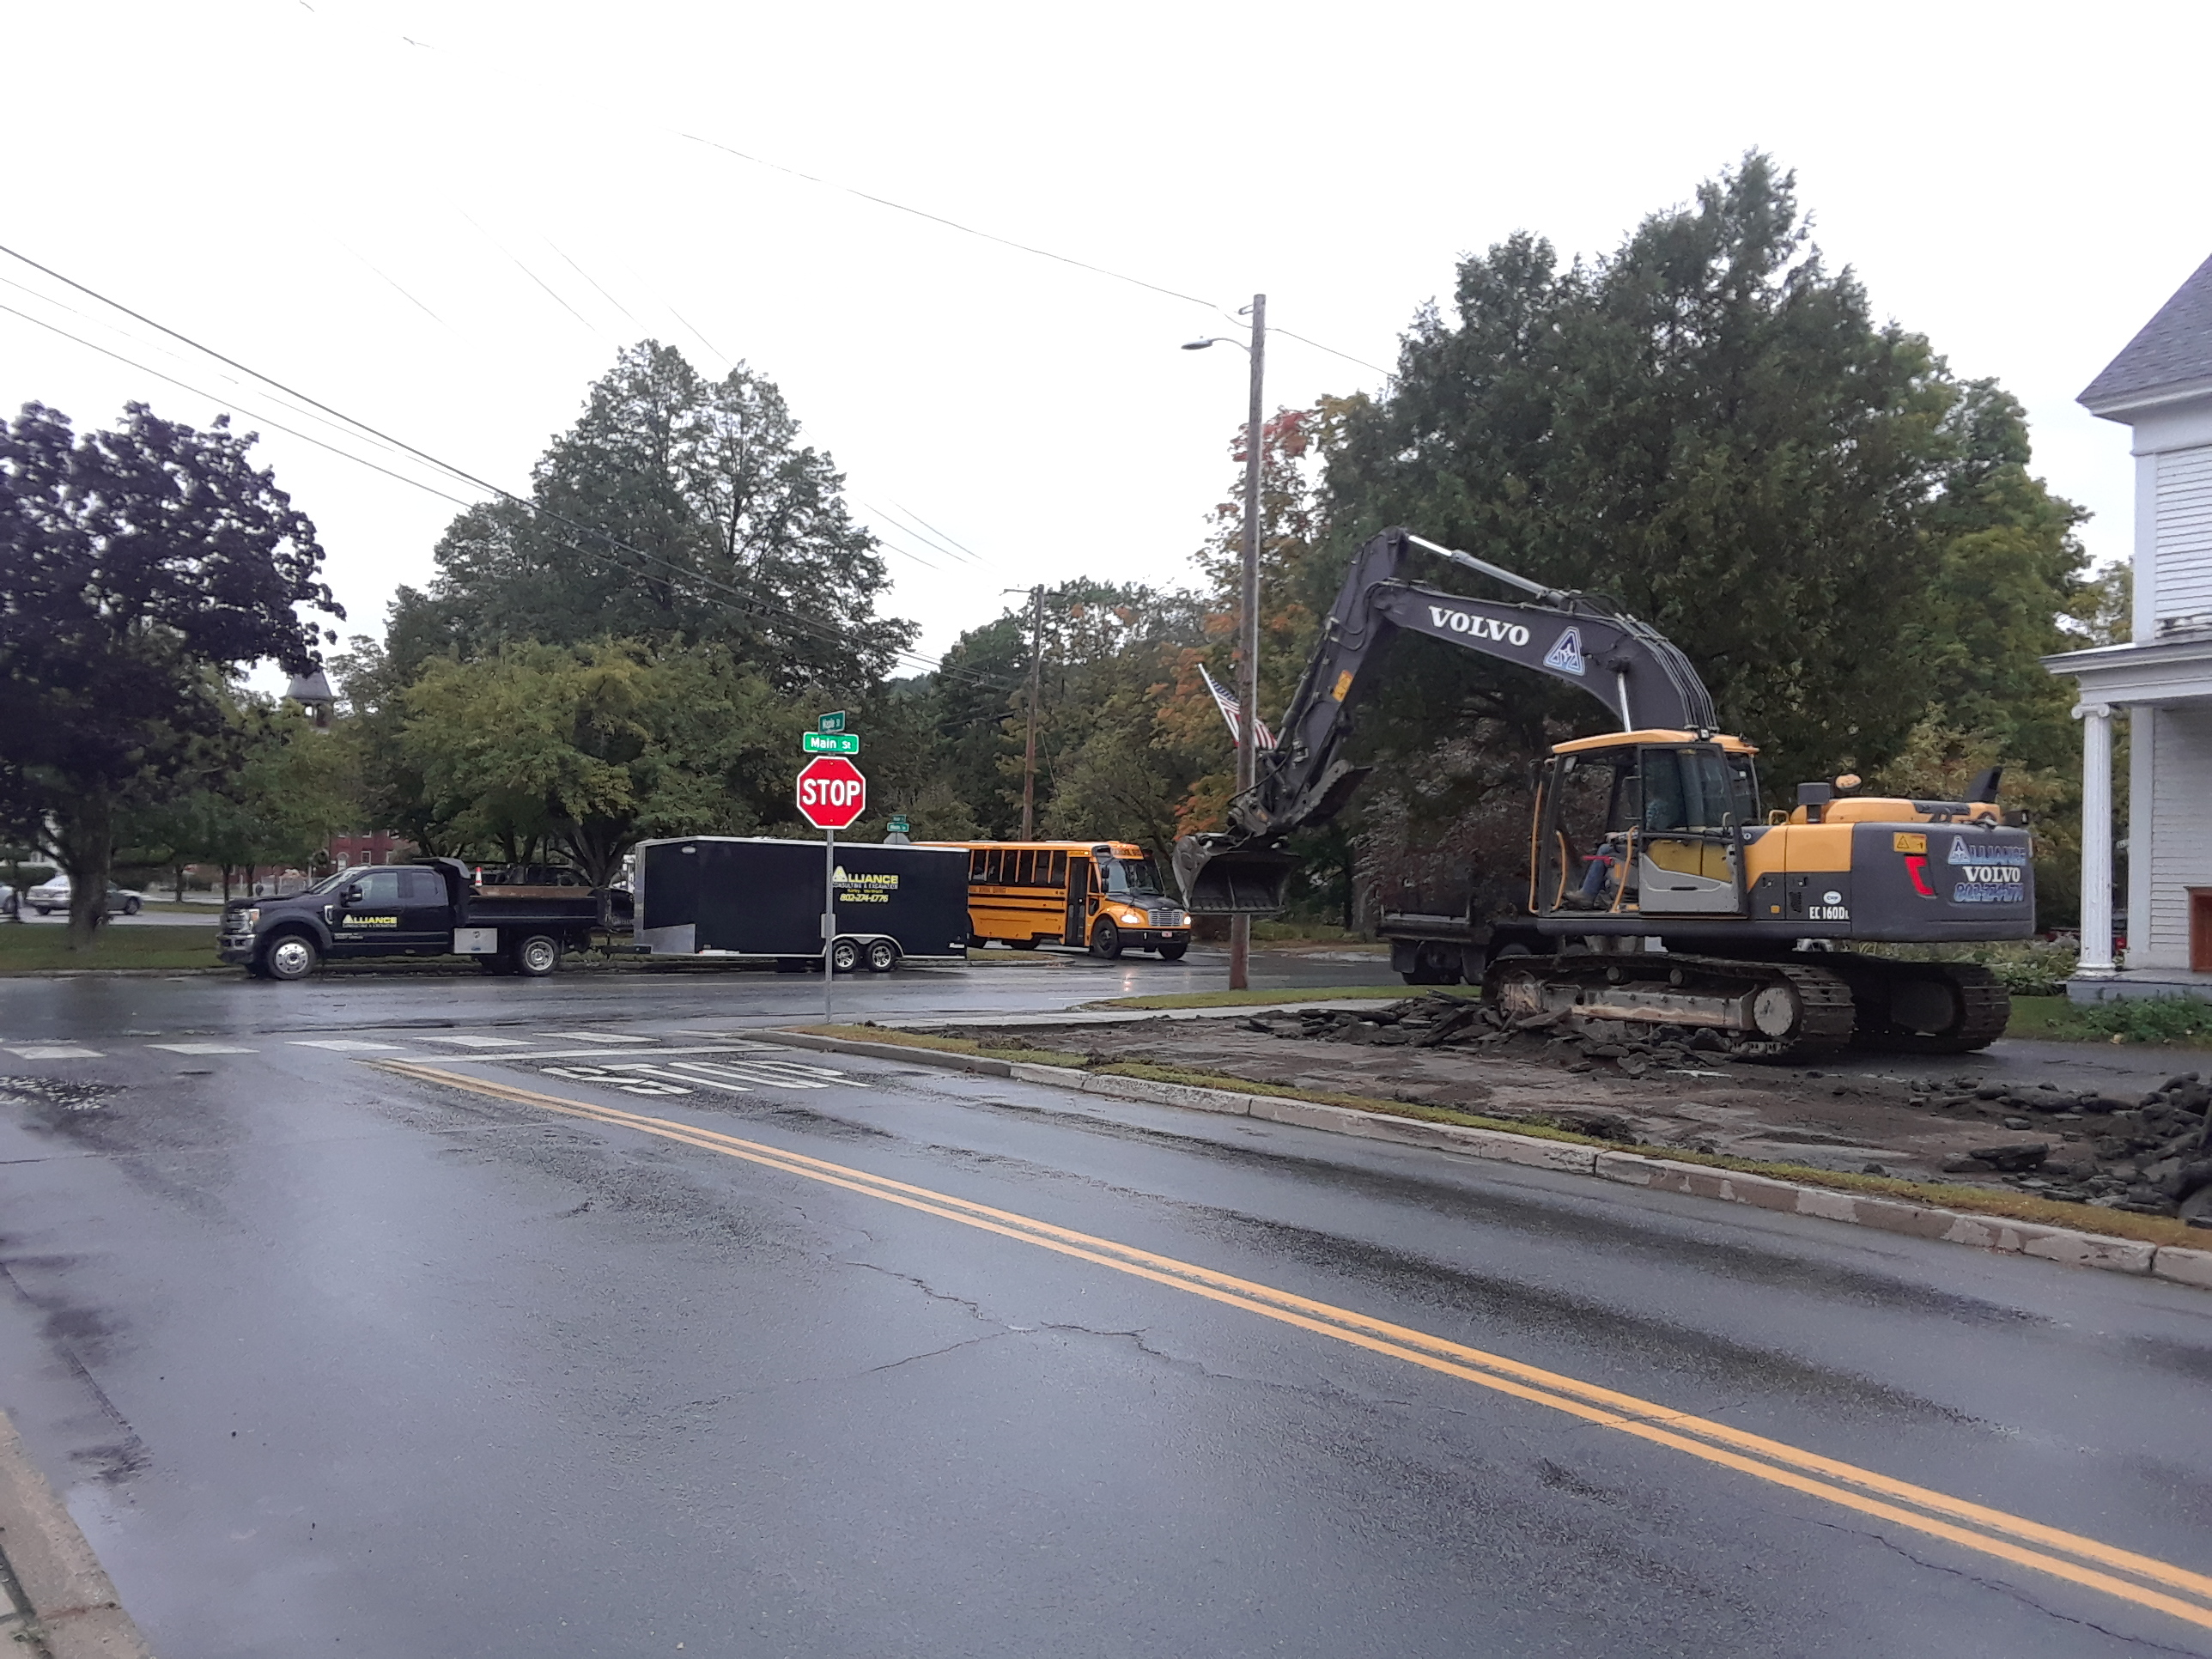excavator: (1202, 535, 2080, 1075)
